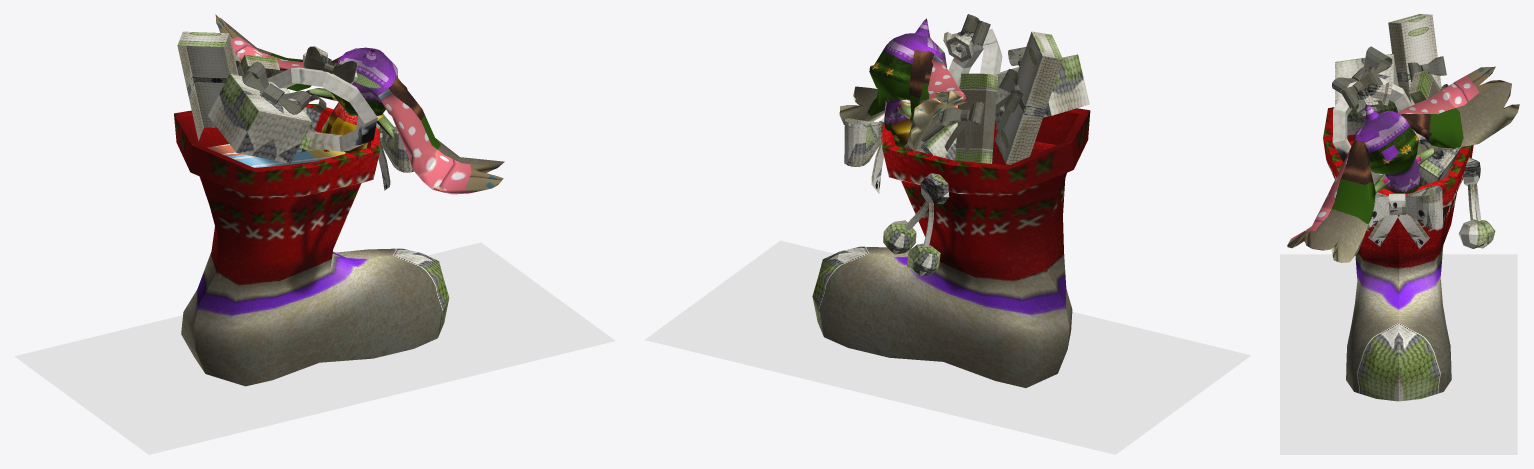
The model's file is ChristmasBoot.glb.
3 views of the same model, side by side, from view 1: azimuth 30°, elevation 25°; view 2: azimuth 150°, elevation 25°; view 3: azimuth 270°, elevation 25° (orthographic). The views are drawn at different scales.
Visible parts, largest first — view 1: boots.4; view 2: boots.4; view 3: boots.4.
Part boxes in pixels (bbox=[...]): boots.4: bbox=[14, 14, 615, 454]; boots.4: bbox=[645, 14, 1250, 454]; boots.4: bbox=[1280, 14, 1519, 454].
Bounding box in the file's own units: 3.9 × 2.67 × 1.97.
2 materials, 1 textured.
